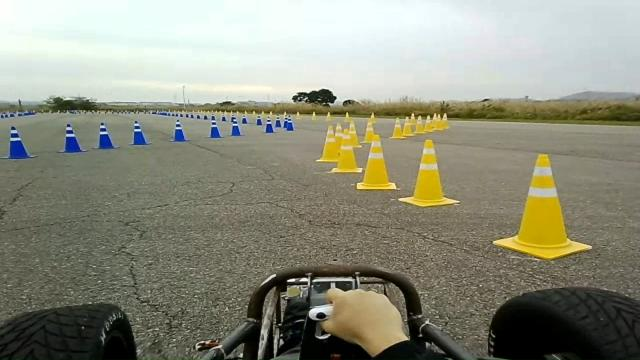blue cone: (0, 125, 37, 159), (57, 123, 88, 153), (92, 122, 119, 150), (128, 120, 152, 145), (169, 119, 190, 142), (260, 115, 276, 135), (206, 120, 223, 138), (251, 112, 265, 132), (229, 117, 243, 136), (272, 111, 284, 128), (288, 115, 298, 132), (280, 114, 290, 129)
yellow cone: (492, 153, 592, 260), (398, 138, 460, 207), (356, 134, 398, 190), (329, 131, 364, 173), (315, 126, 341, 162), (328, 122, 347, 159), (344, 120, 363, 152), (398, 115, 413, 146), (389, 116, 403, 147), (364, 117, 378, 146)
